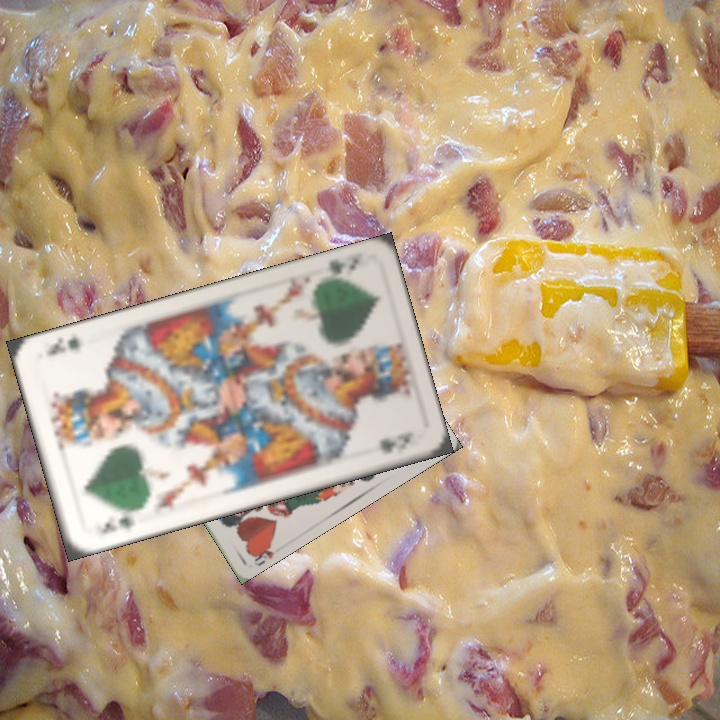GK: (91, 509, 138, 536), (324, 253, 361, 277)
HO: (247, 537, 276, 568)
